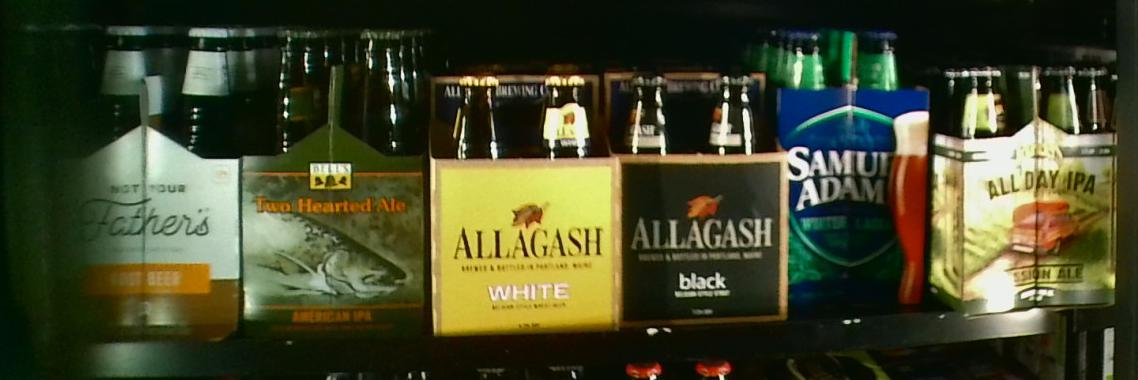bottle: (240, 22, 432, 341), (63, 25, 241, 340), (425, 74, 620, 339), (935, 64, 1118, 306), (613, 70, 786, 322), (785, 32, 932, 309)
